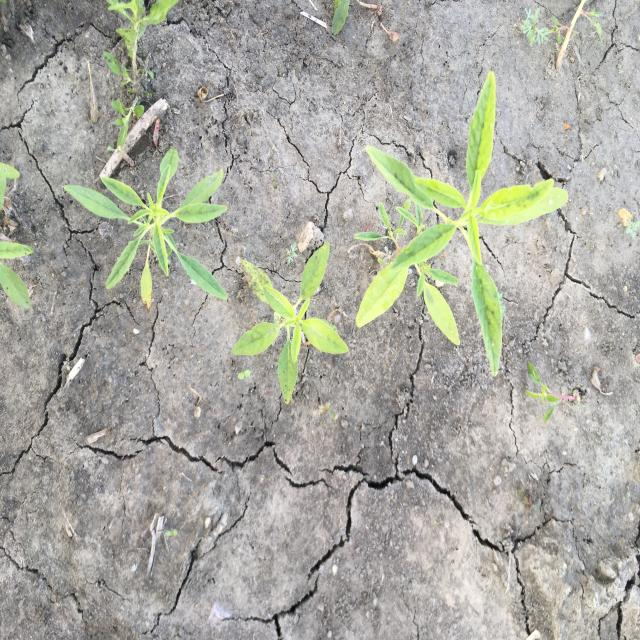Ragweed: (518, 7, 551, 48)
Waterhemp: (352, 70, 570, 379), (62, 146, 229, 315), (231, 239, 350, 406), (1, 162, 36, 312), (524, 360, 582, 426)
